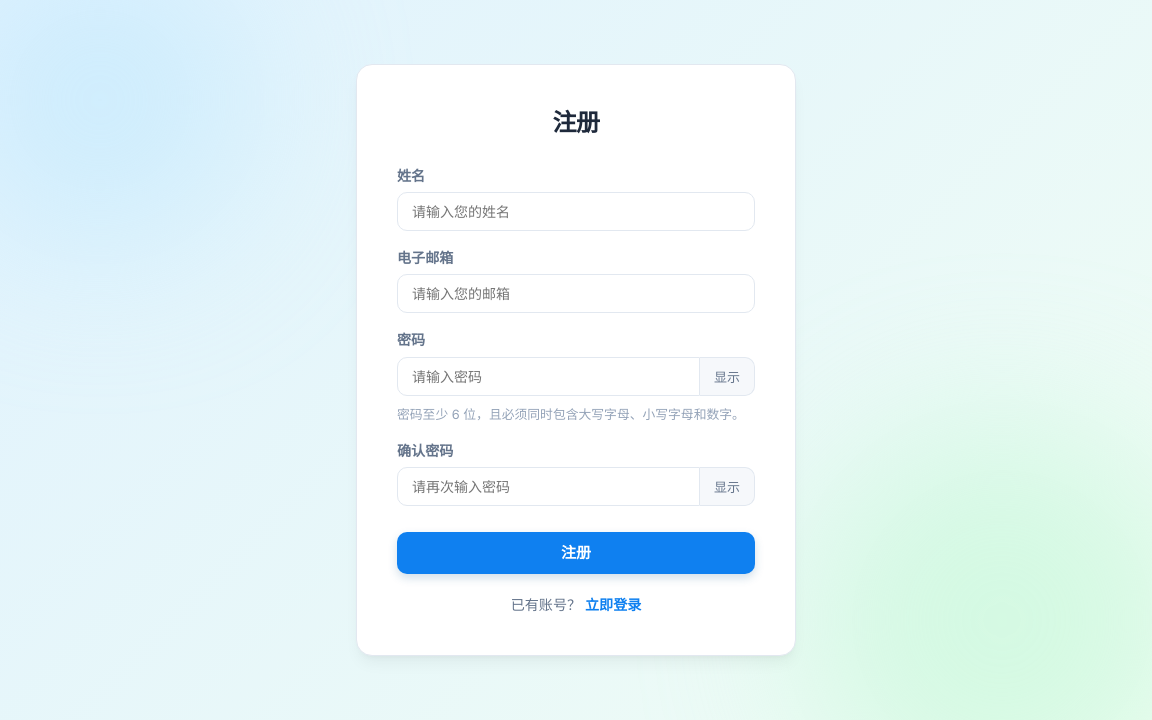
Scenario: Register › 后端返回字段错误时挂到对应输入旁
Type "张三" into the field labelled "姓名" at [576, 212], box [397,192,755,231]
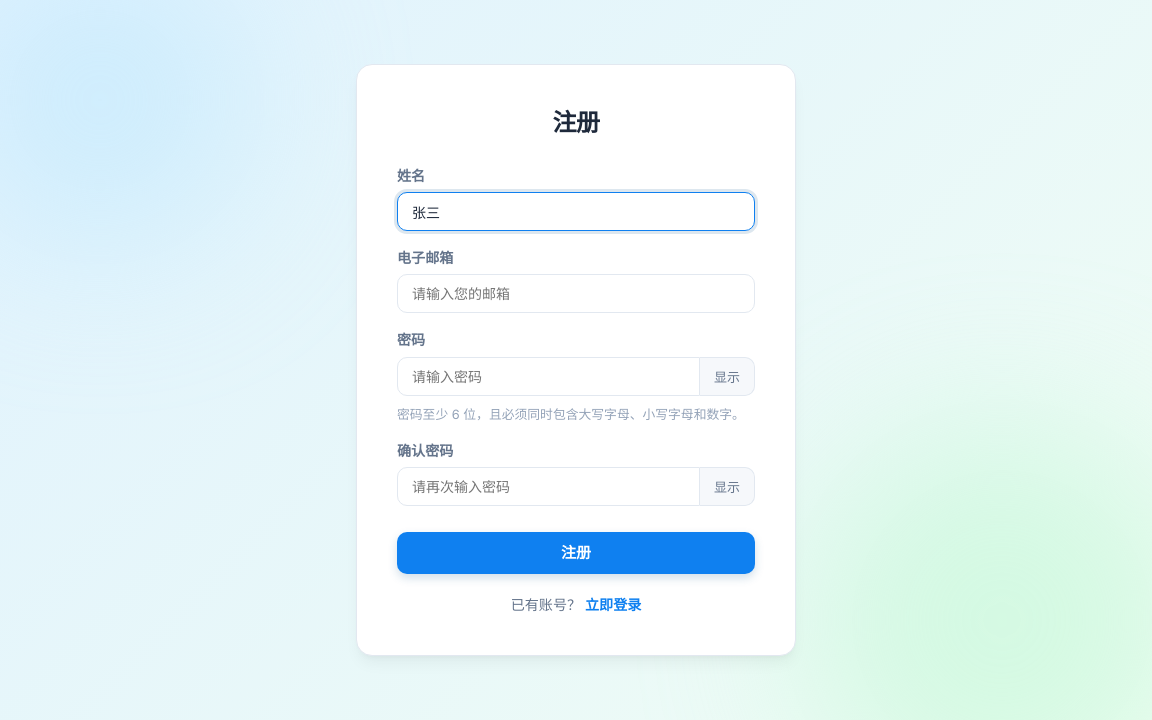
Type "a@b.com" into the field labelled "电子邮箱" at [576, 294], box [397,274,755,314]
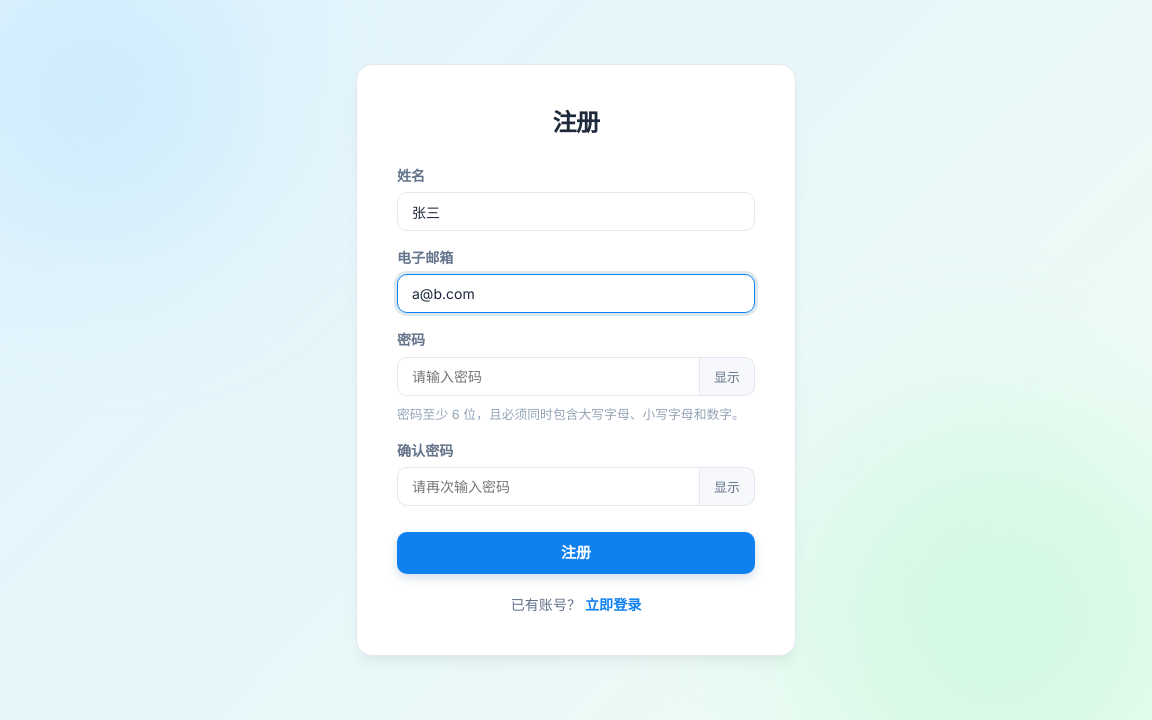
Type "Pass123!" into the password field labelled "密码" at [548, 376], box [397,357,700,396]
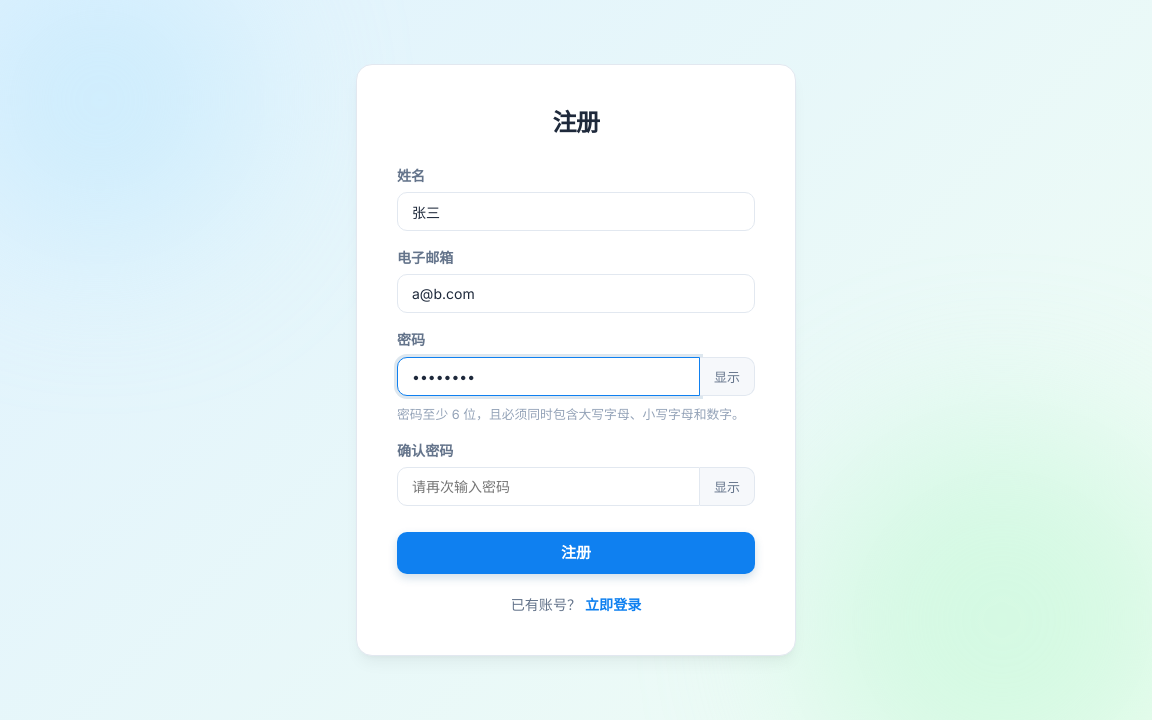
Type "Pass123!" into the password field labelled "确认密码" at [548, 486], box [397,467,700,506]
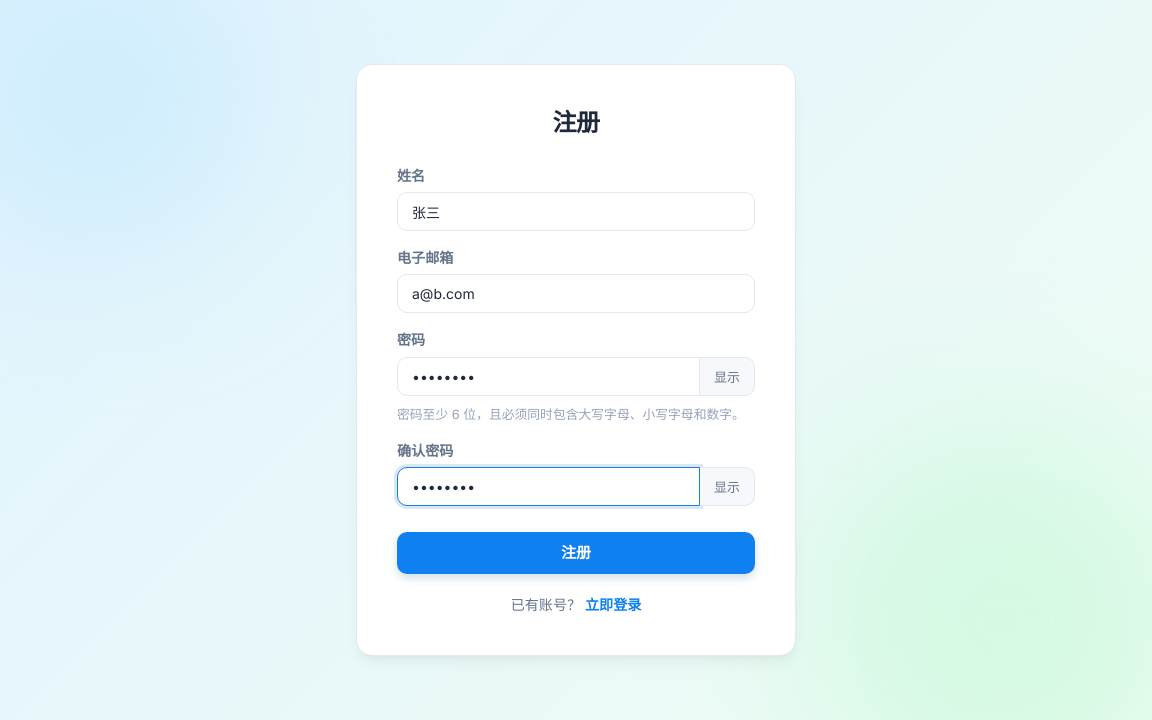
Click the button "注册" at [576, 553], box [397,532,755,574]
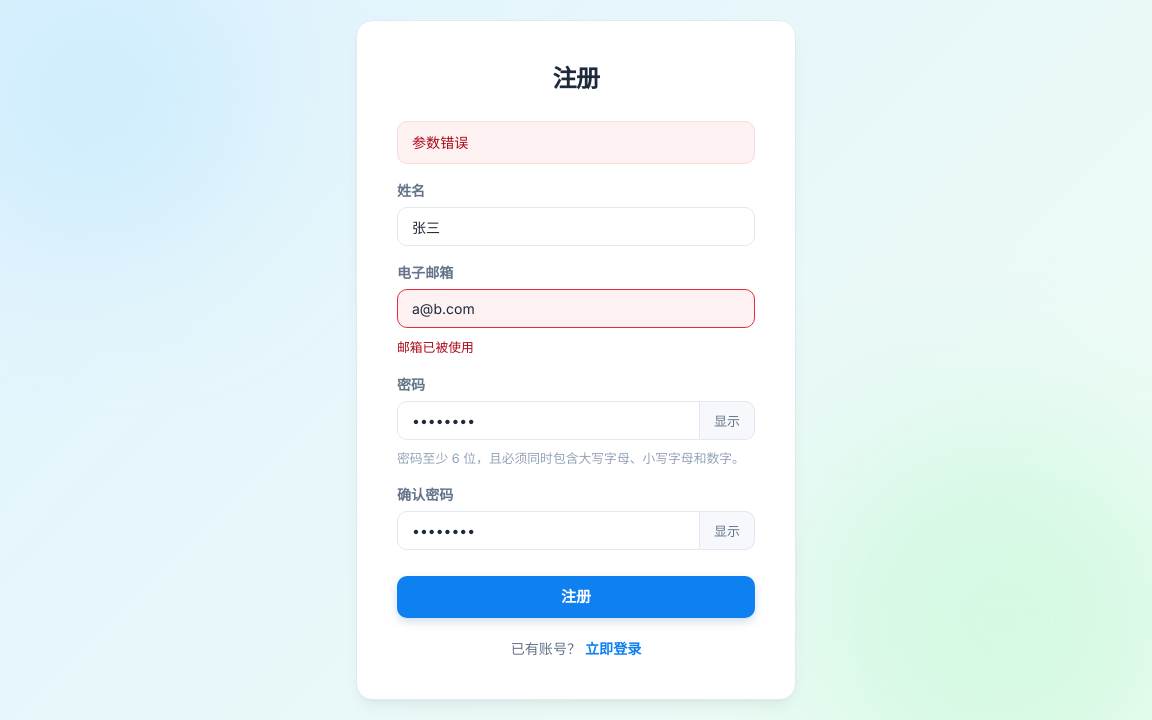
Expected: the text "邮箱已被使用" is shown, [397,340,474,356]
